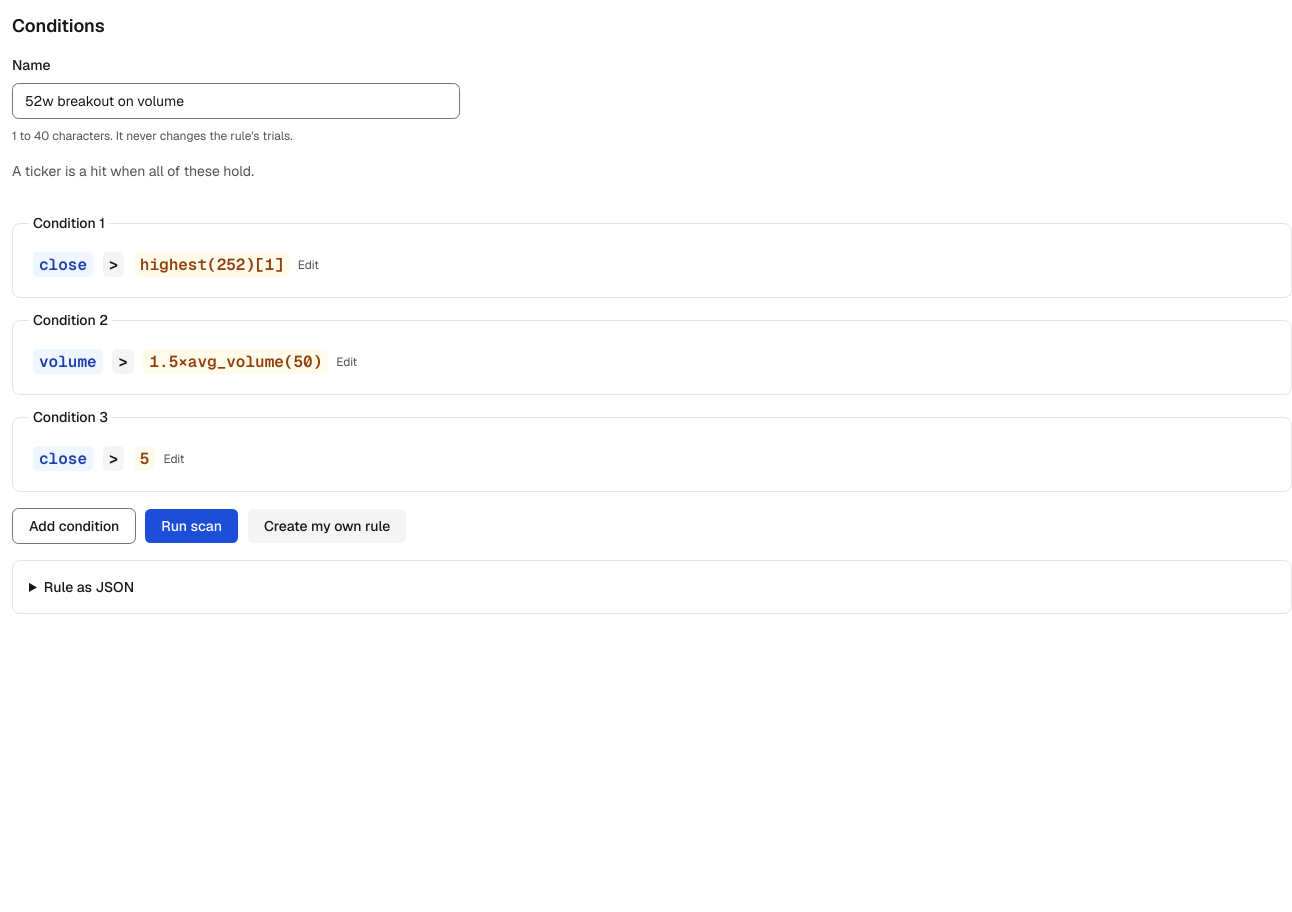
Test: RuleBuilder name check before the request (UAT) › blocks an empty name, says so on the field and in the summary, and focuses the summary
Clear the field labelled "Name": (236, 101) [12,83,460,119]
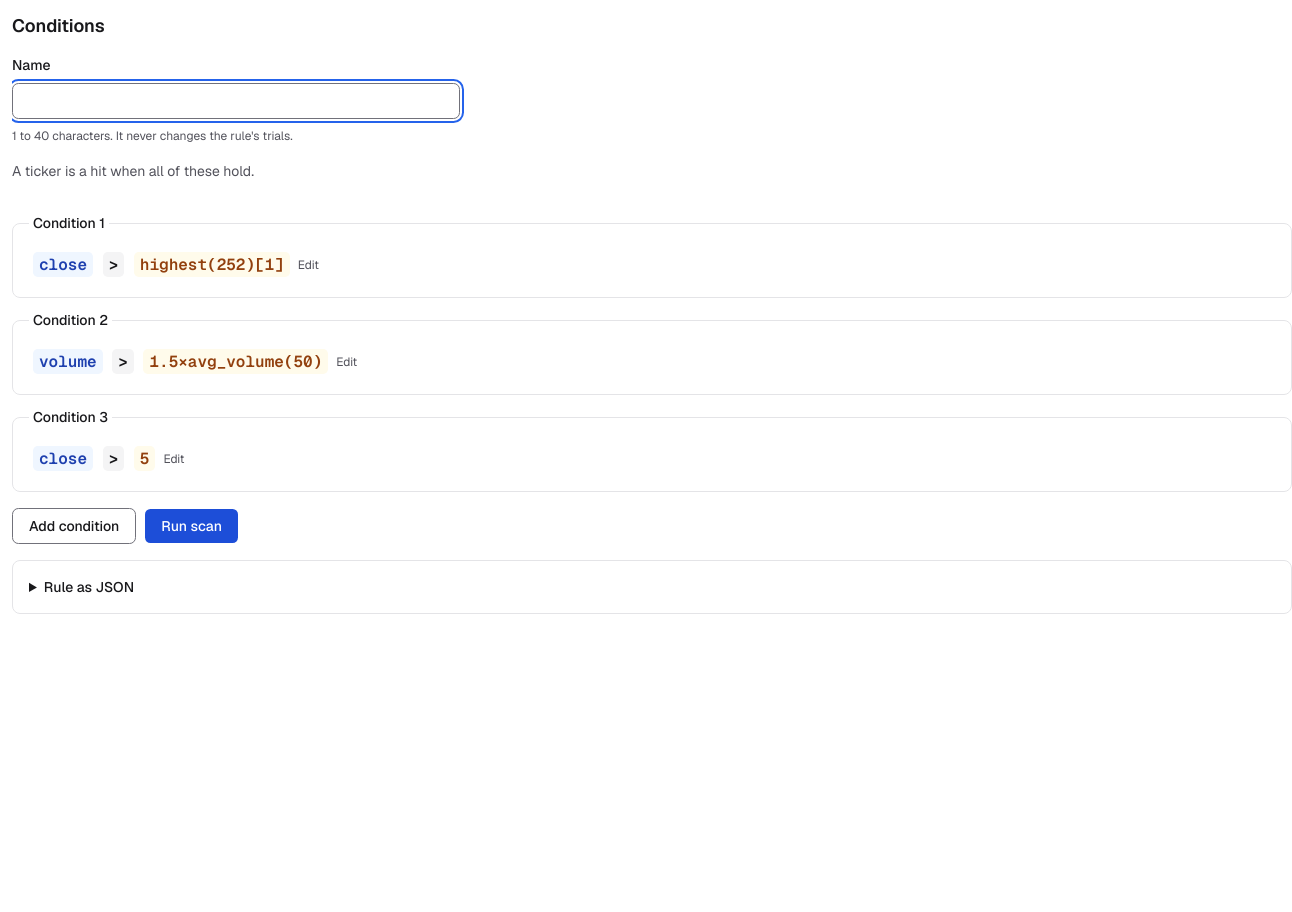
Click the button "Run scan": (192, 526) [144,508,239,544]
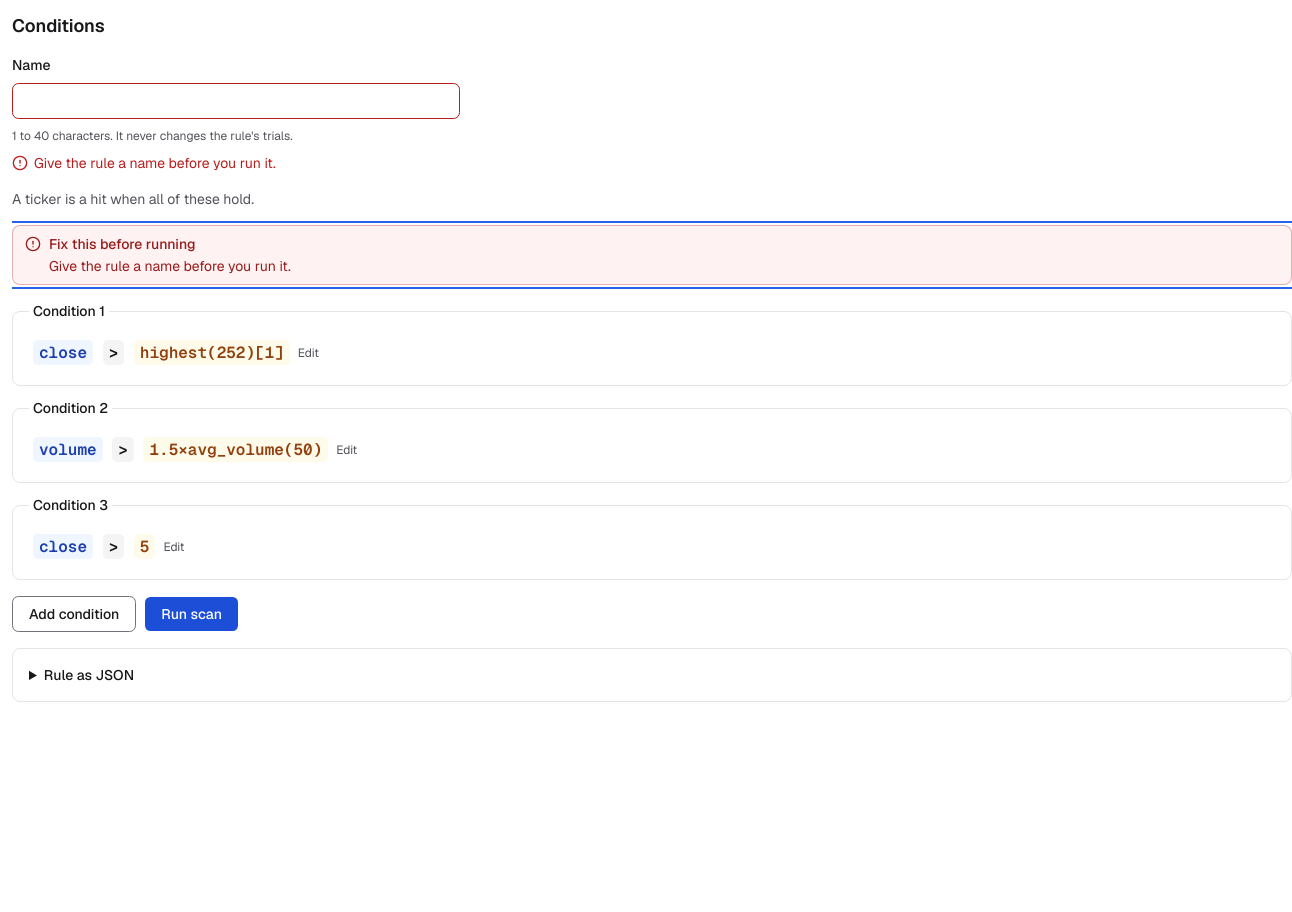
expect the message shows "Give the rule a name before you run it.": met, box [49,257,291,275]
